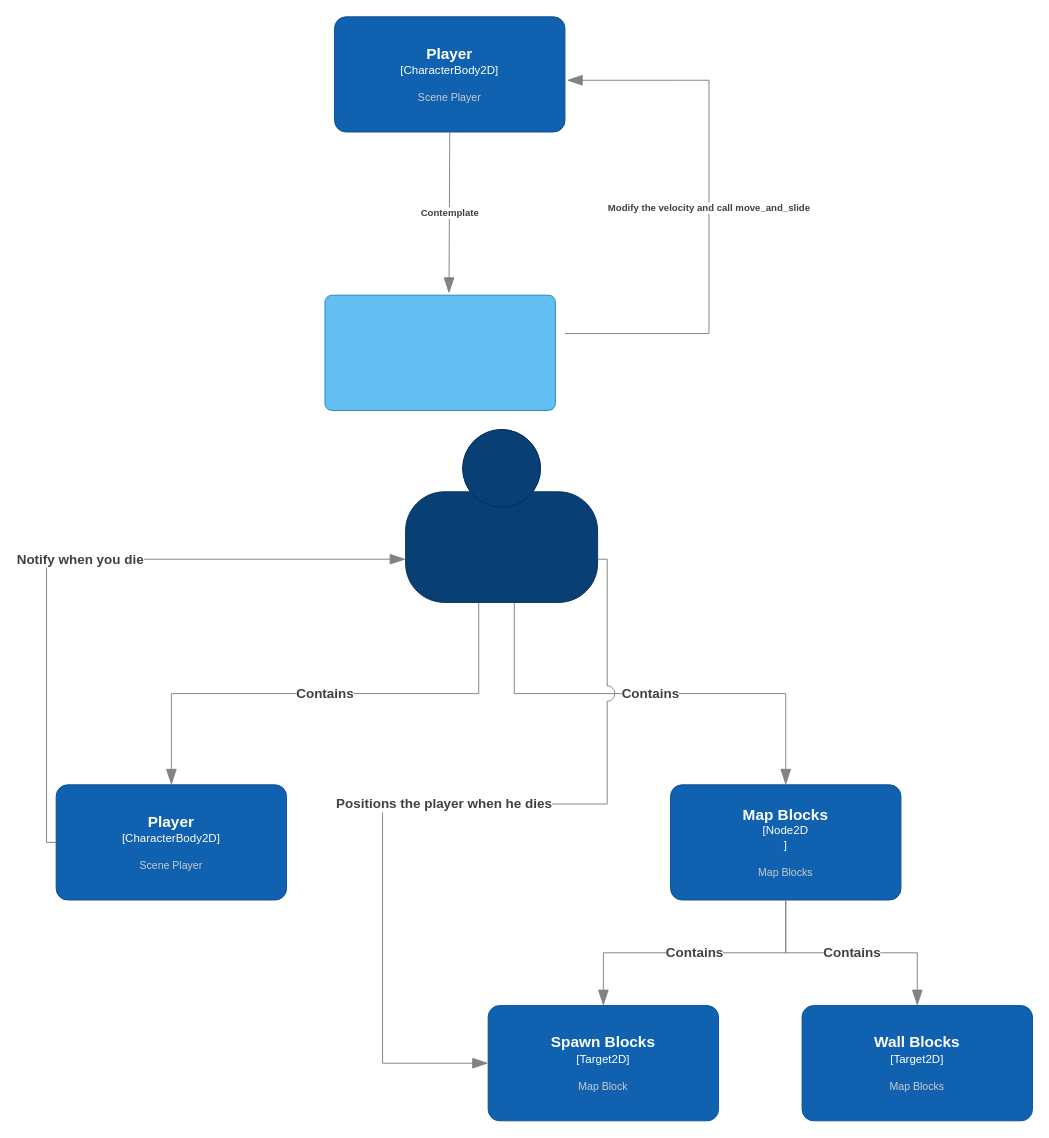
Image size: 1049x1138. Some labels were removed from this diagram. The shapes that lost their labels are listed below. From the top down, each one's centre as x and y in pixels, then its label:
At (439,352): "PlayerStateMachine [Component: Node2D ] Player drive state machine".
At (501,515): "Tutorial Room [Node2D] tutorial room scene".
